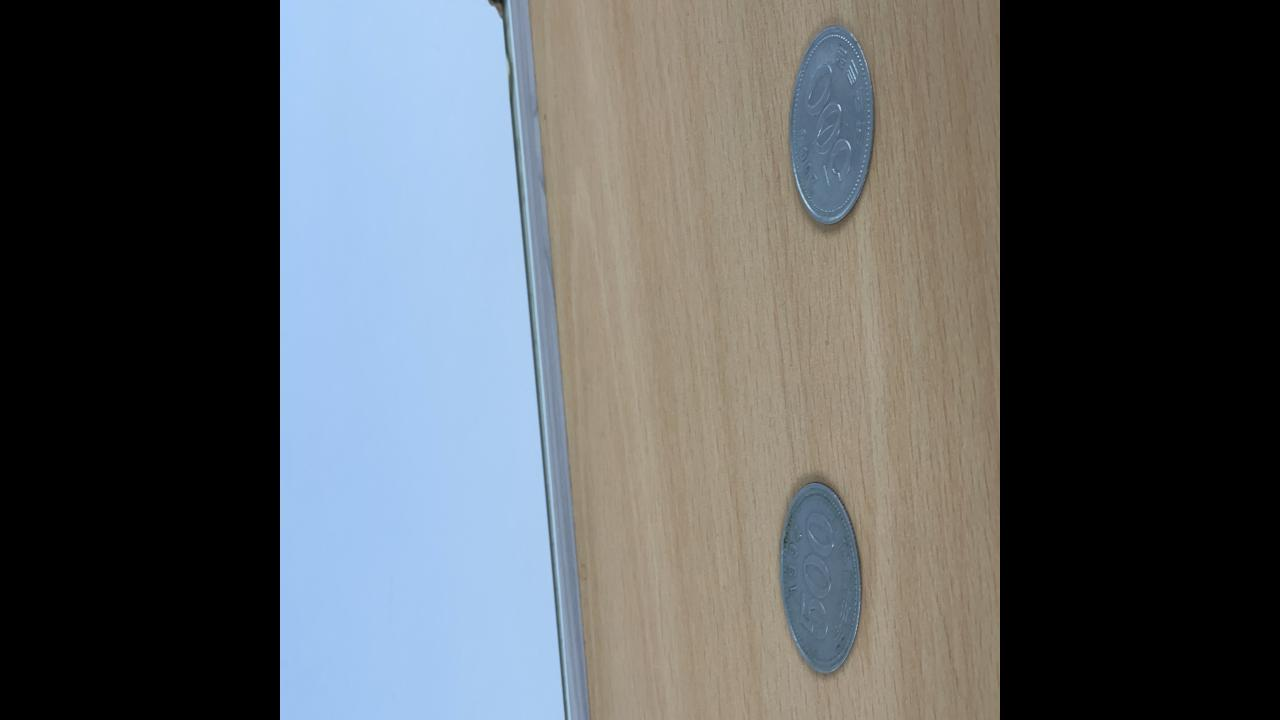coin: (786, 21, 876, 229), (778, 478, 862, 679)
